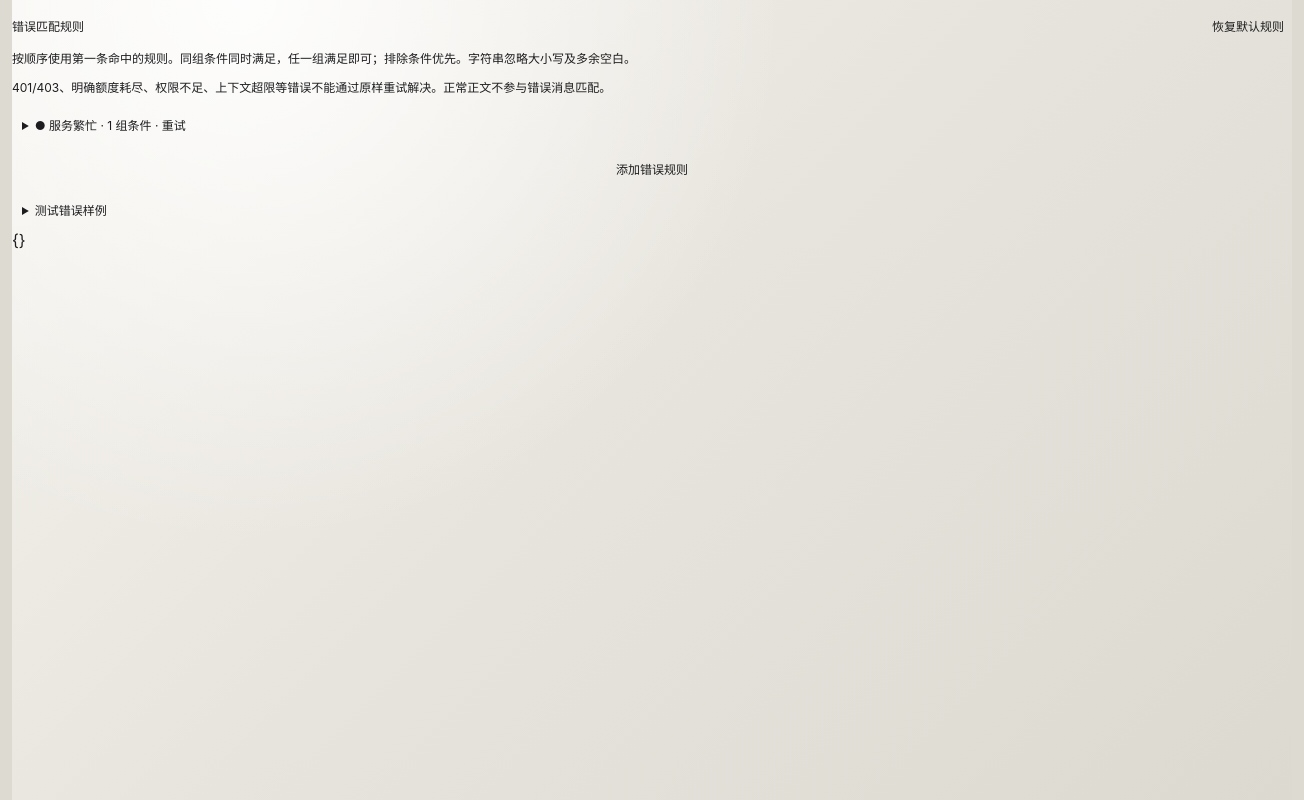
edits real default conditions and persists explicit rules
This screenshot has width=1304, height=800.
Step 1. Click the heading "● 服务繁忙 · 1 组条件 · 重试" → click(110, 126), box [35,118,186,133]
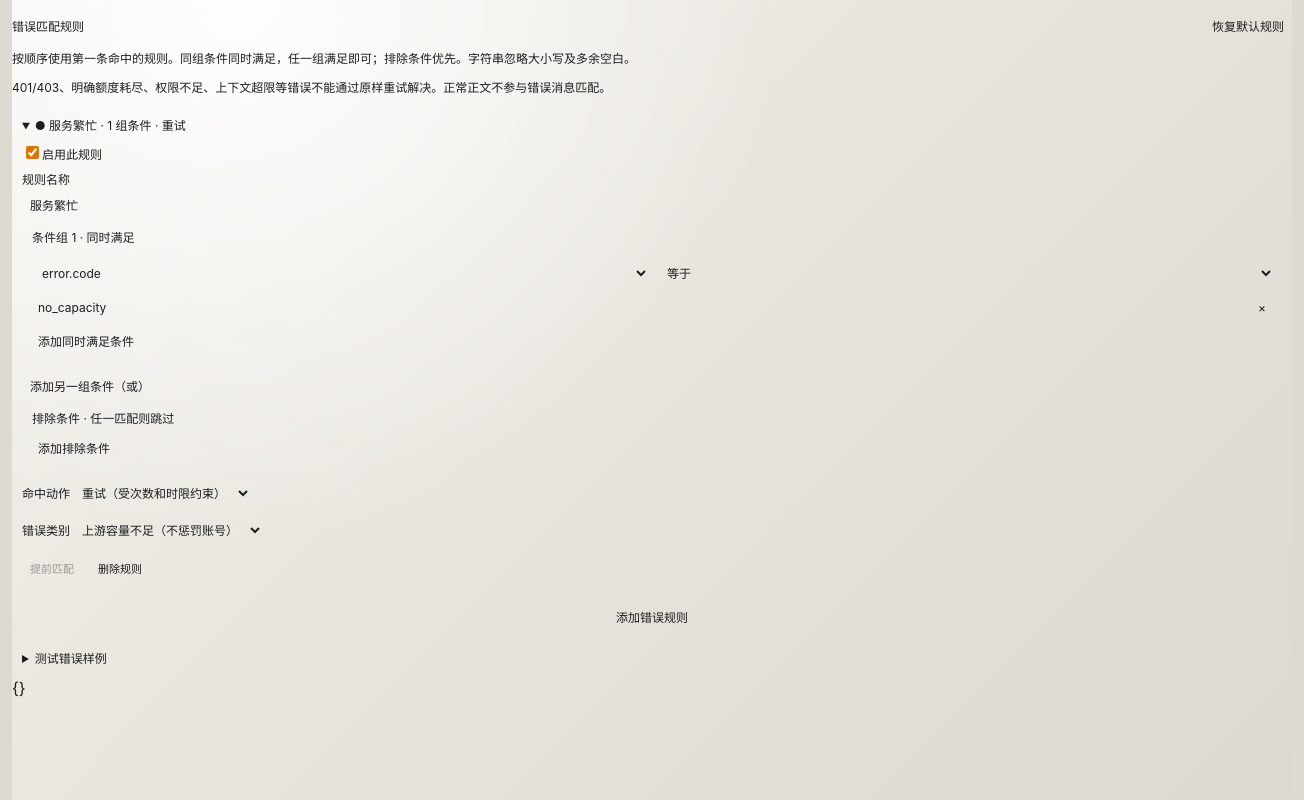
Step 2. Replace the text in the field named "匹配内容" with "CUSTOM_BUSY" → (340, 308), box [30,294,649,321]
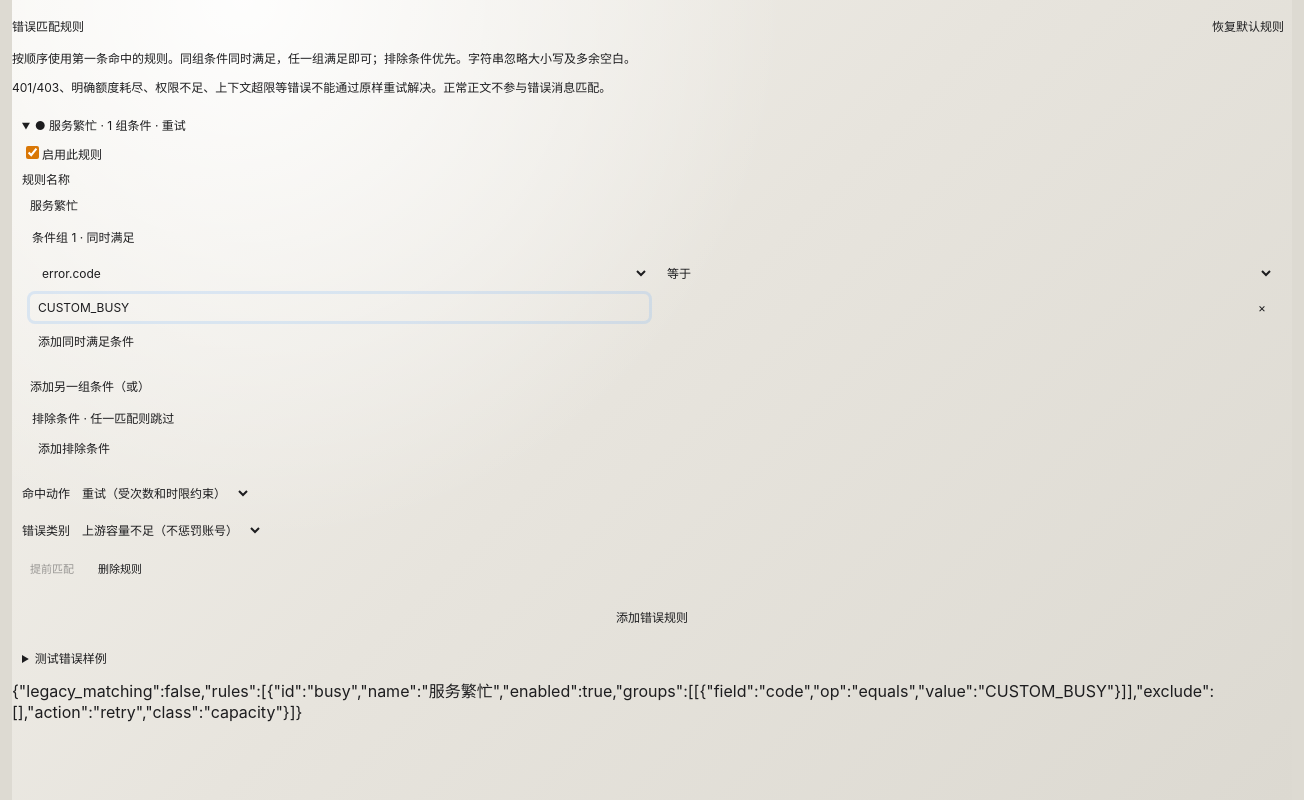
Step 3. Click the button "恢复默认规则" → click(1248, 26), box [1204,12,1292,39]
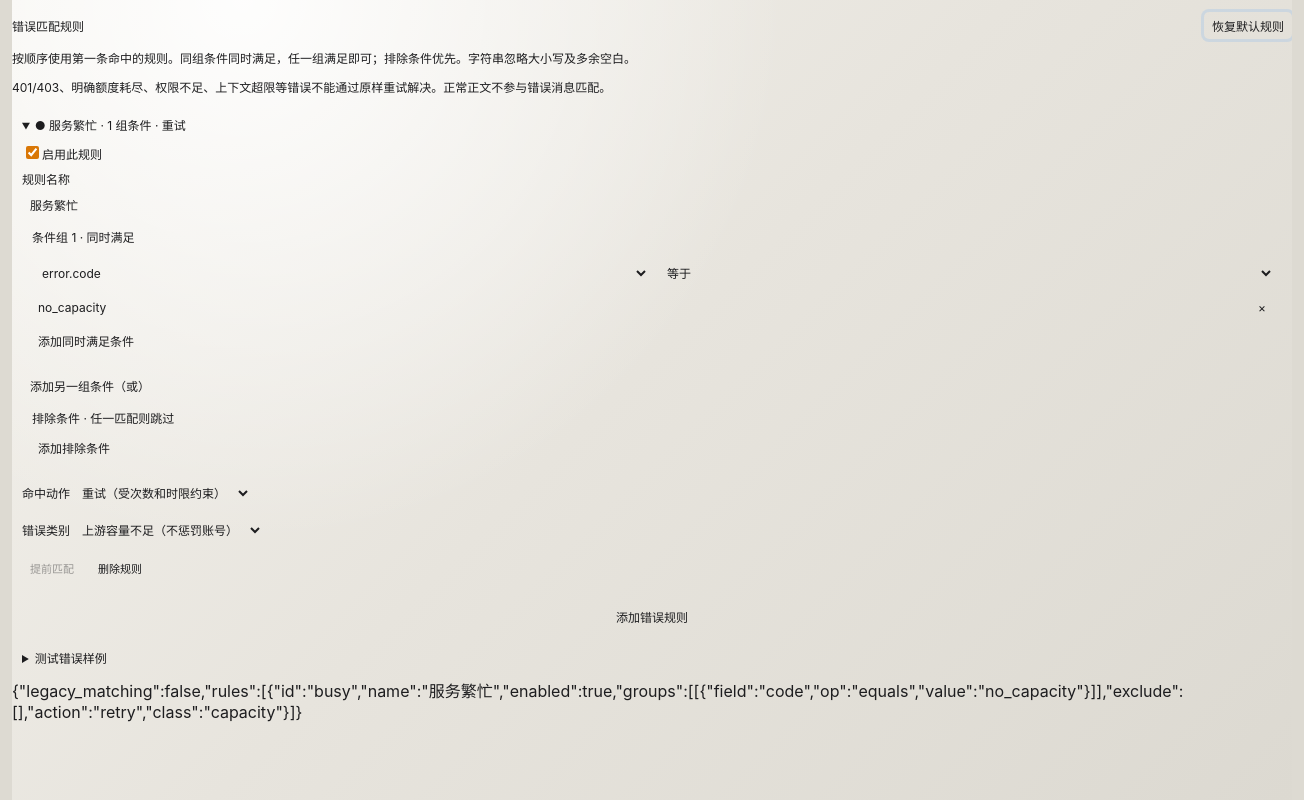
Now the field named "匹配内容" holds "no_capacity", box [30,294,649,321]
